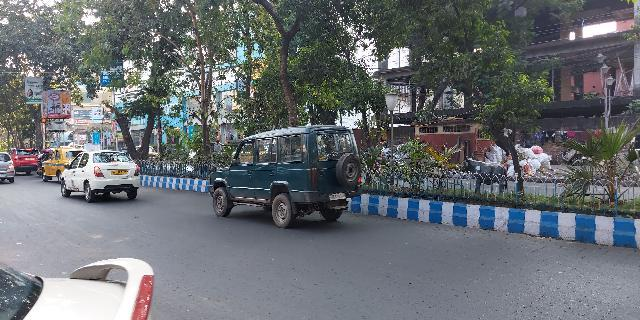Car: (210, 124, 363, 227), (55, 150, 142, 203), (37, 147, 71, 182), (1, 150, 22, 183)
